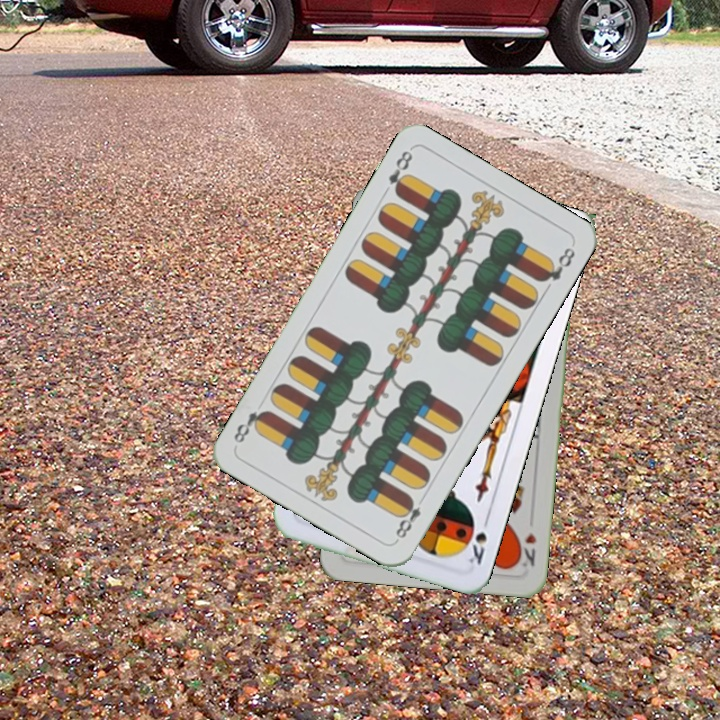E8: (391, 492, 429, 544), (384, 146, 416, 199)
HK: (520, 529, 539, 569)
SK: (464, 511, 492, 568)
